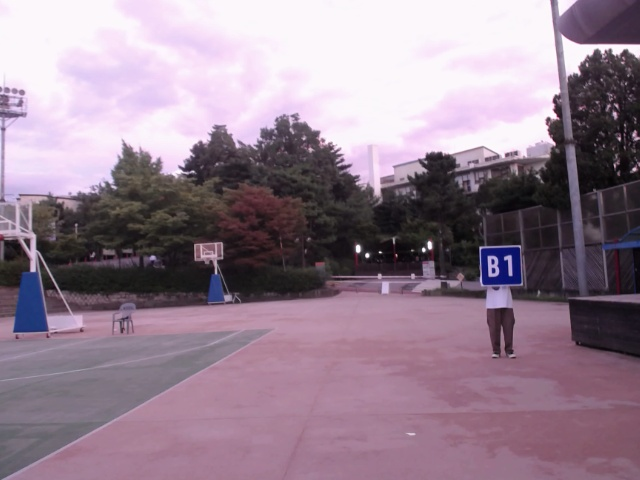delivery_b1: (480, 246, 523, 287)
